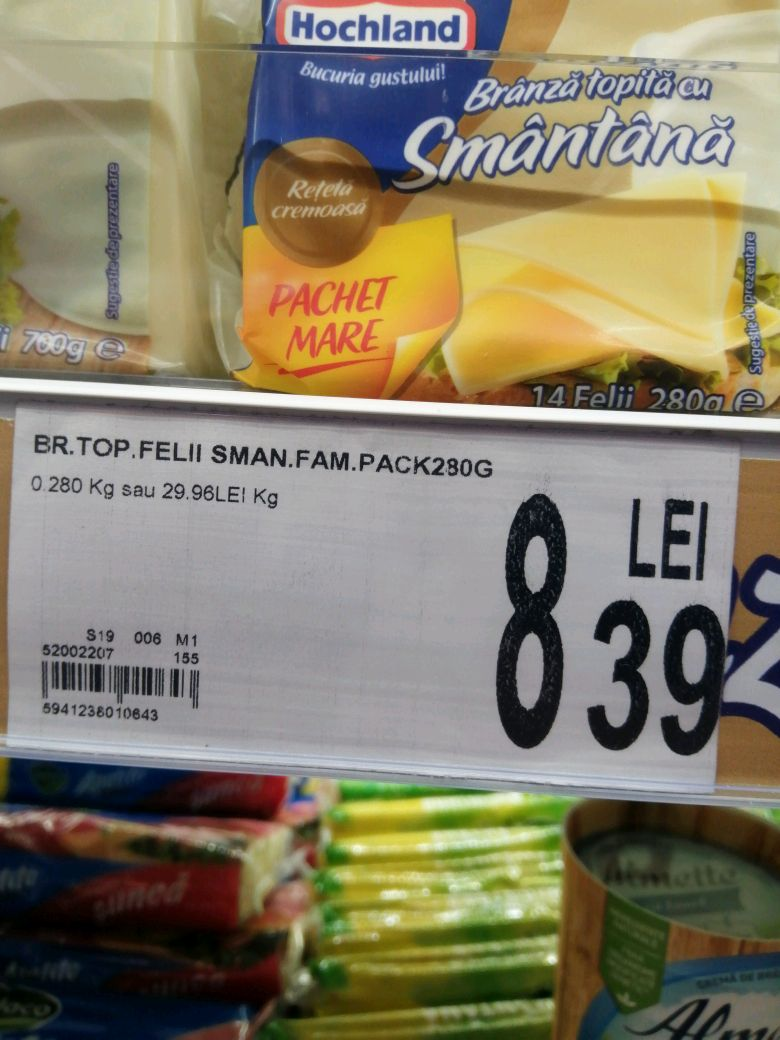price_bani: (578, 590, 733, 766)
price_lei: (485, 480, 574, 765)
price_tag: (4, 393, 739, 802)
product_id: (33, 699, 173, 731)
product_name: (20, 419, 515, 483)
